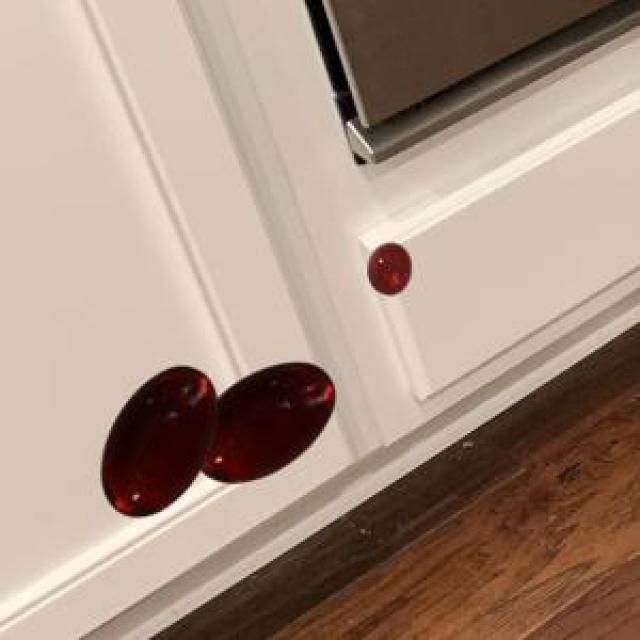Medicol: (86, 347, 348, 530), (362, 235, 423, 302)
